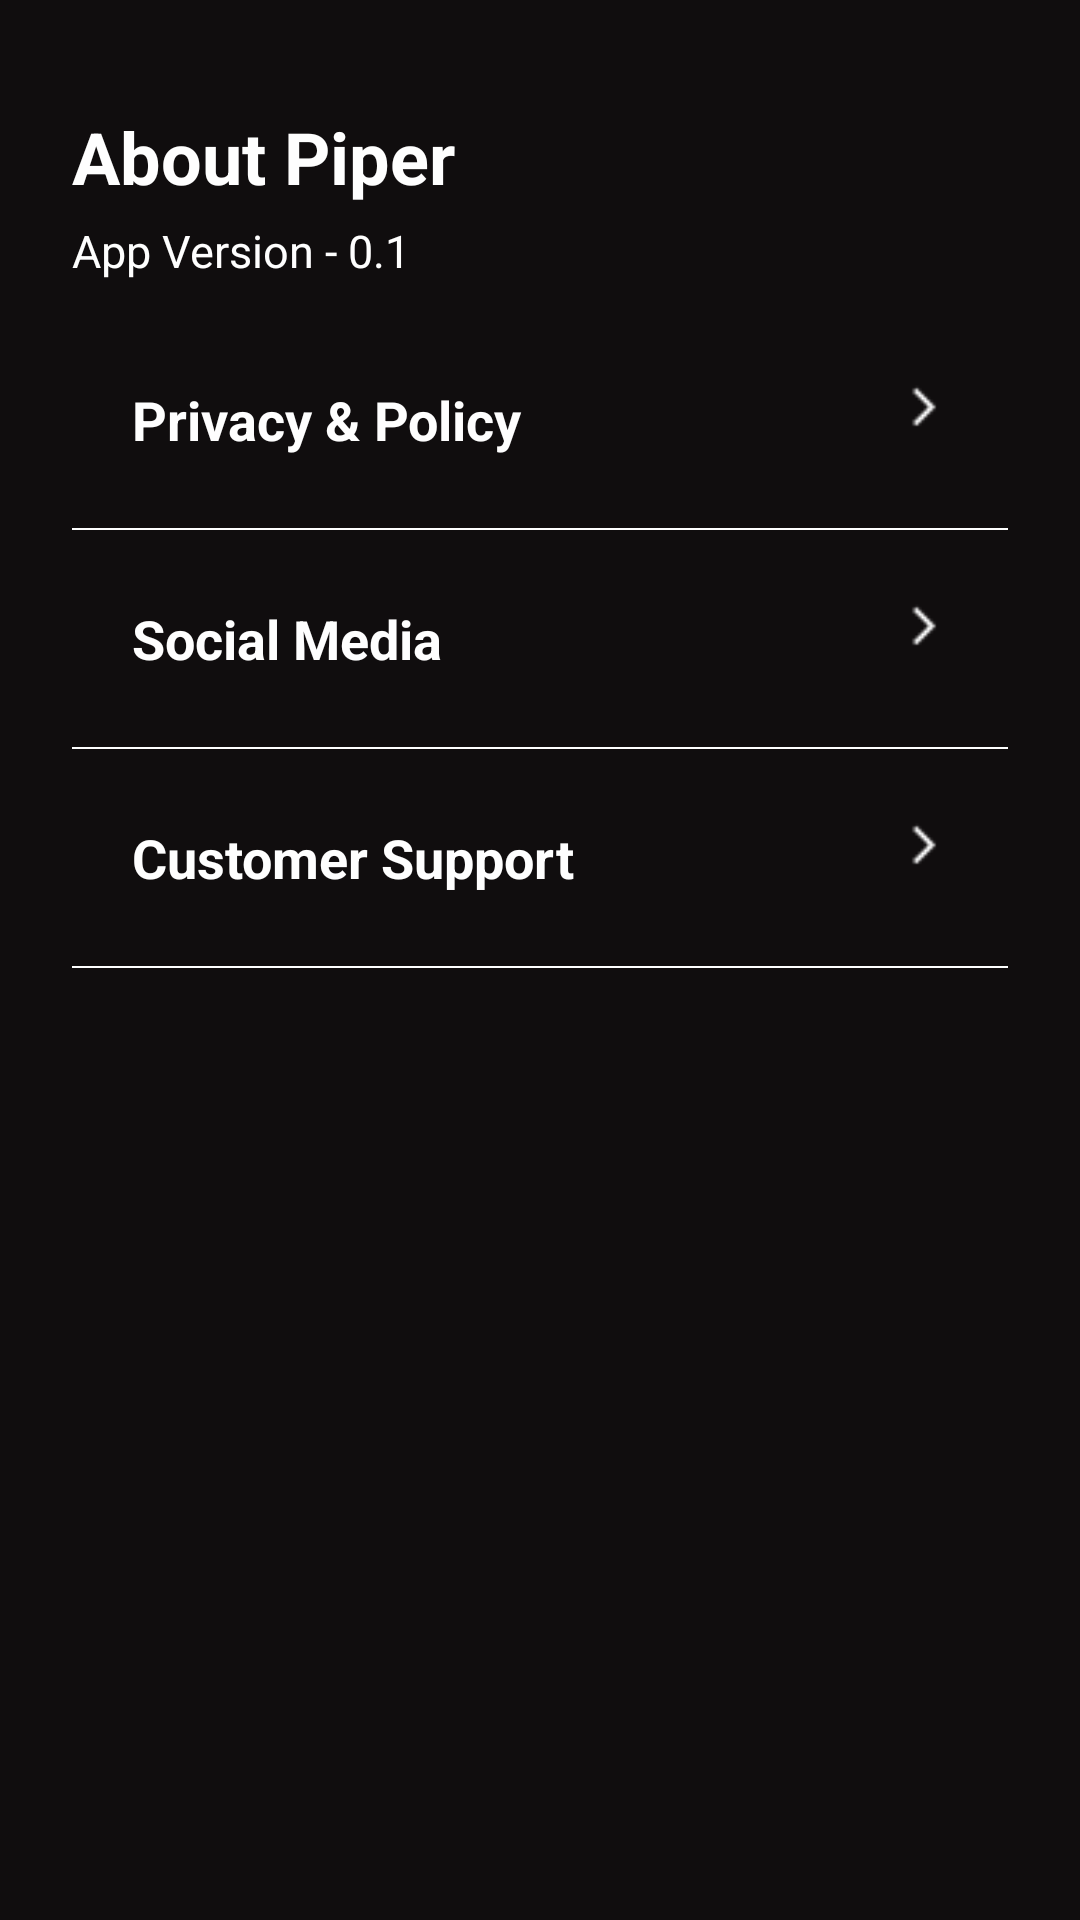

Screen size 1080px x 1920px. Icon name, then its center in pixels as (x,y):
forward: (924,406), (924,625), (924,844)
